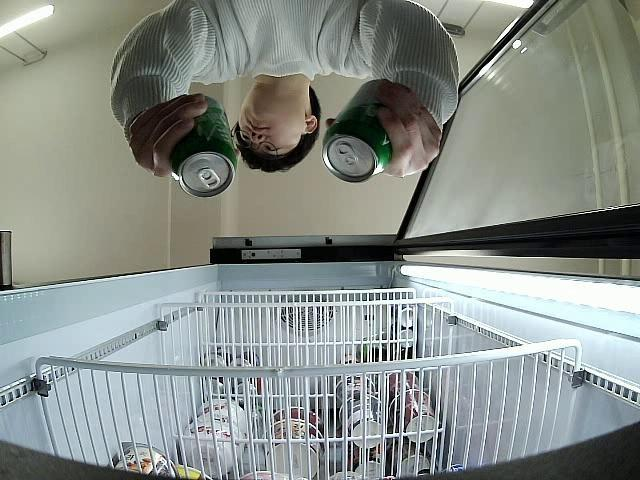12_chilsungCider: (321, 78, 394, 183), (170, 94, 237, 200)
